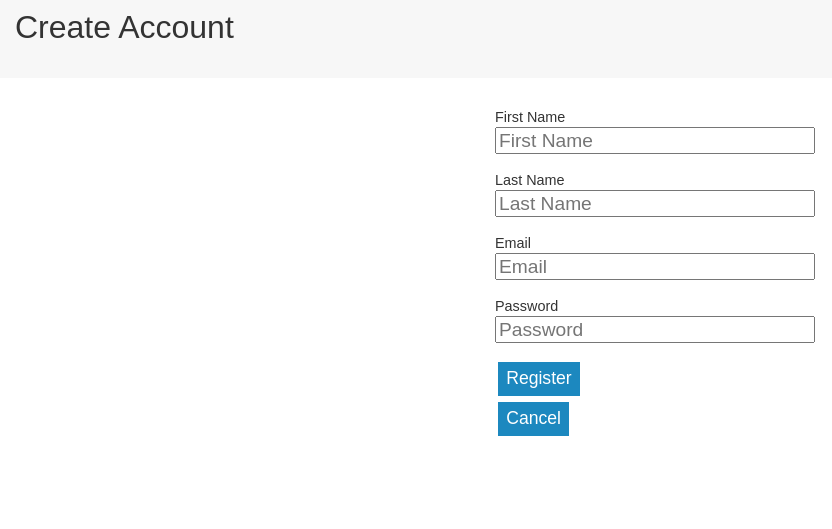
Test case: should render error message with last name missing
This screenshot has width=832, height=529.
Type "Jeff" into the field with id "create_form_first_name_field" at (655, 141), box [495,127,815,154]
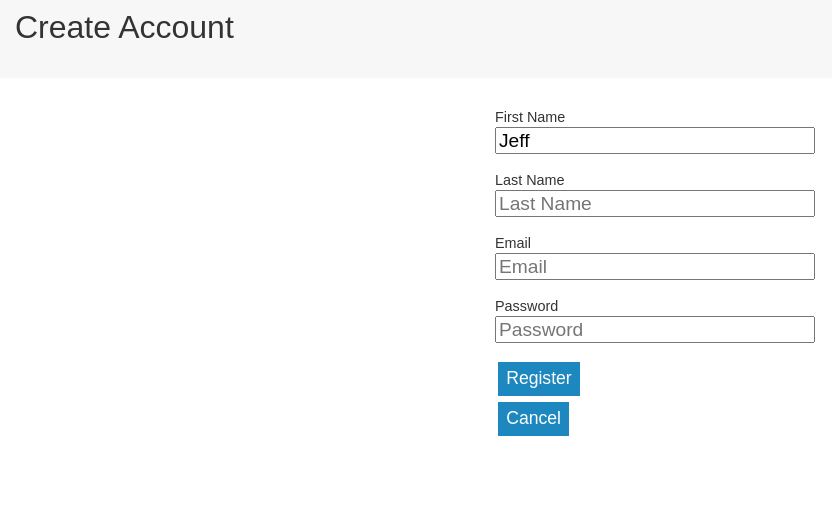
Submit the form, box [495,107,815,399]
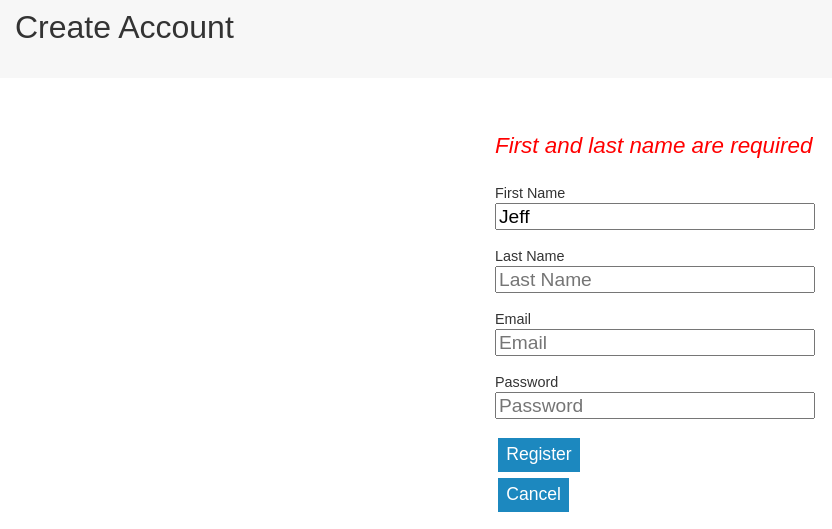
Result: the text "First and last name are required" is shown at [495,130,815,161]
